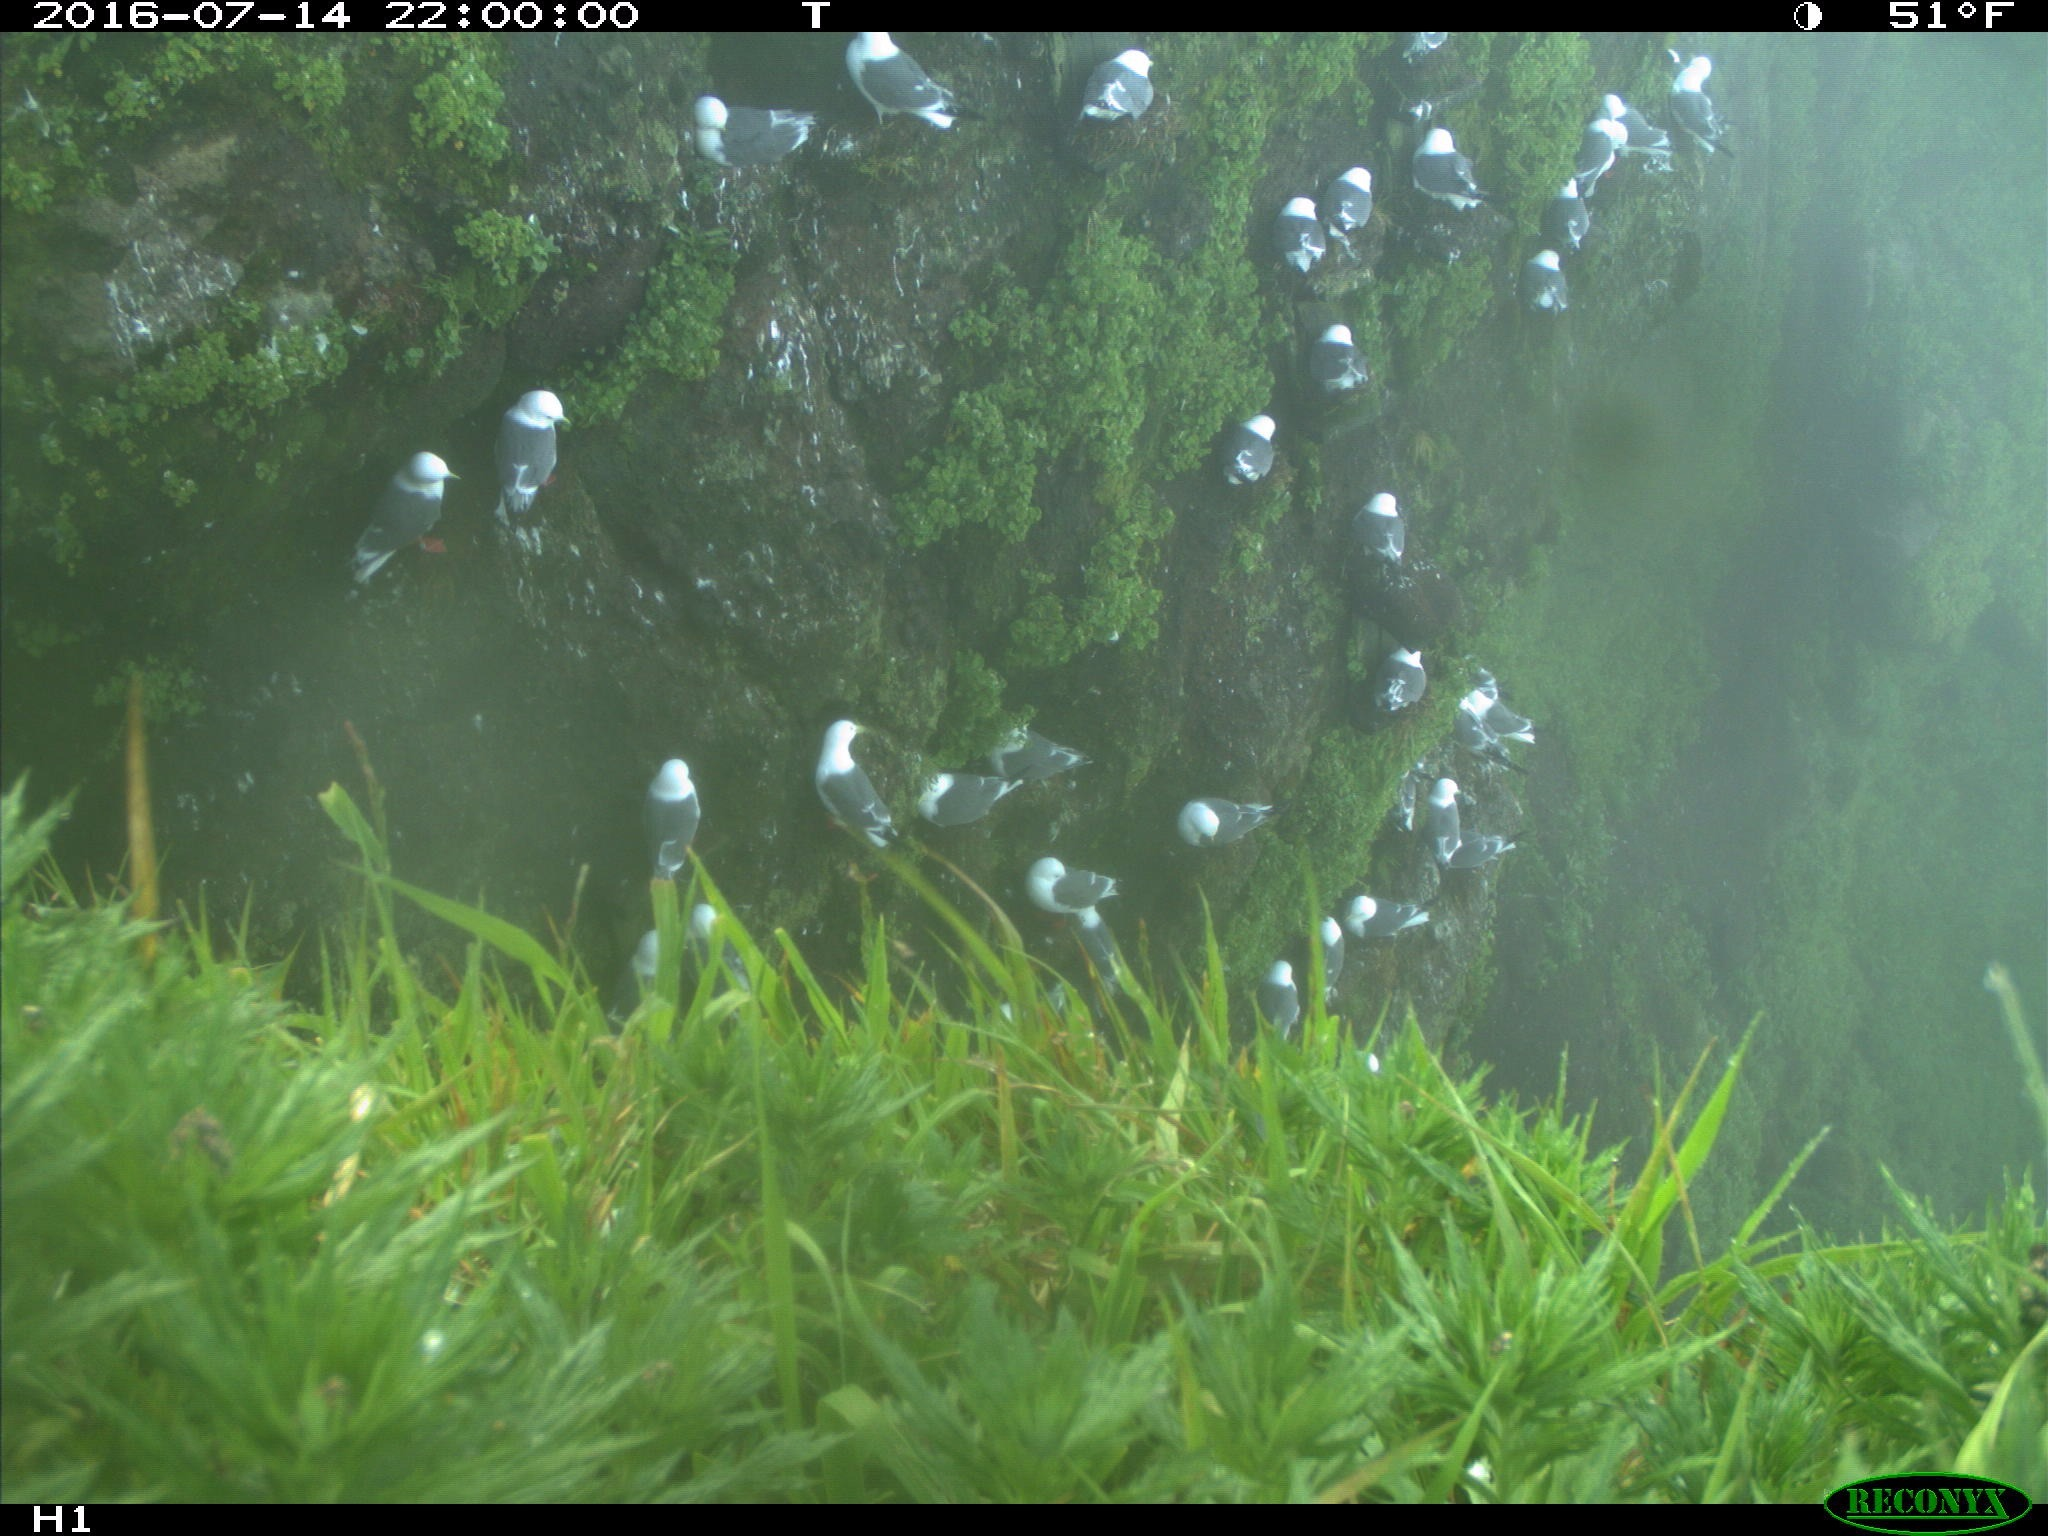Kittiwake: (327, 408, 471, 615), (482, 358, 600, 536), (821, 29, 989, 152), (669, 69, 834, 181), (806, 694, 905, 862), (1392, 102, 1508, 237), (901, 737, 1039, 845), (998, 837, 1150, 934), (1050, 29, 1185, 137), (964, 703, 1114, 799), (1655, 37, 1755, 165), (629, 736, 713, 886), (1195, 387, 1301, 505), (1342, 470, 1434, 591), (1363, 608, 1450, 729), (1251, 173, 1347, 282), (601, 907, 692, 1020), (1505, 232, 1605, 332), (1161, 792, 1305, 862), (1335, 871, 1450, 957), (1409, 758, 1487, 884), (1450, 650, 1538, 758), (1237, 928, 1330, 1029), (1588, 58, 1680, 160), (1293, 307, 1379, 415), (1316, 145, 1393, 253), (681, 899, 758, 1000), (1563, 103, 1638, 203), (1529, 161, 1613, 250), (1300, 886, 1363, 1000), (1447, 820, 1538, 887), (990, 968, 1092, 1029), (1066, 900, 1135, 979), (1372, 24, 1479, 69), (1384, 771, 1426, 842)
